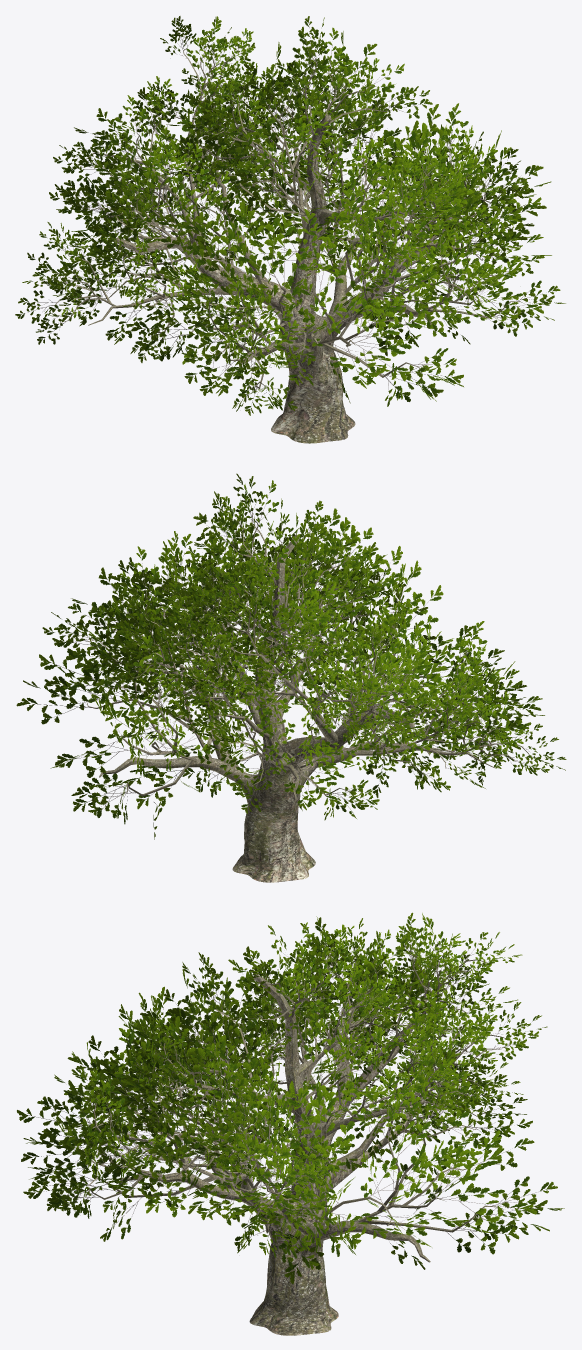
Rendered from vv_roble_b.glb.
3 renders of one model, top to bottom at view 1: azimuth 30°, elevation 25°; view 2: azimuth 150°, elevation 25°; view 3: azimuth 270°, elevation 25°, orthographic. The views are drawn at different scales.
Visible parts, largest first — view 1: Tree_1, Tree_0; view 2: Tree_1, Tree_0; view 3: Tree_1, Tree_0.
Boxes of the visible parts, x1,y1,x2,y2 form: Tree_1: [15, 16, 565, 415]; Tree_0: [49, 45, 524, 443]; Tree_1: [16, 473, 566, 839]; Tree_0: [85, 513, 529, 882]; Tree_1: [17, 912, 564, 1284]; Tree_0: [78, 953, 505, 1335].
Bounding box in the file's own units: 11.53 × 8.34 × 10.23.
Materials: 2 (2 with a texture image).
